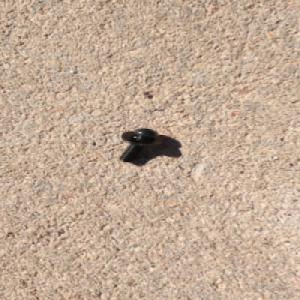BoltWasher: (116, 127, 164, 163)
